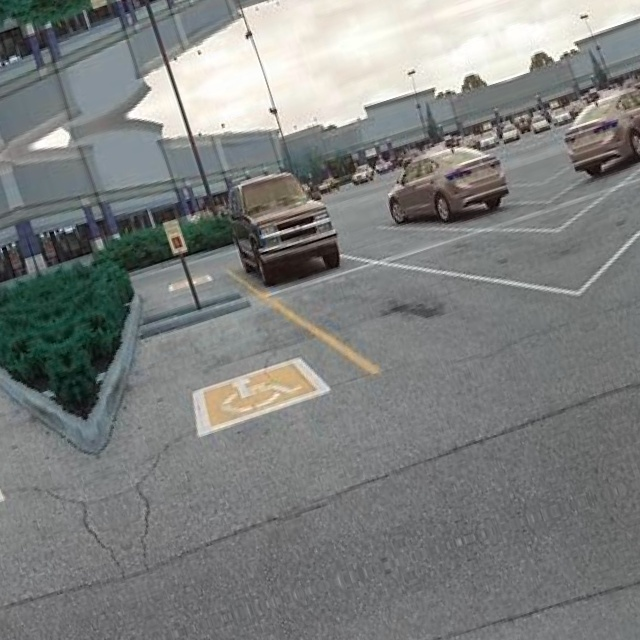ISA: (212, 360, 305, 420), (172, 234, 185, 249)
